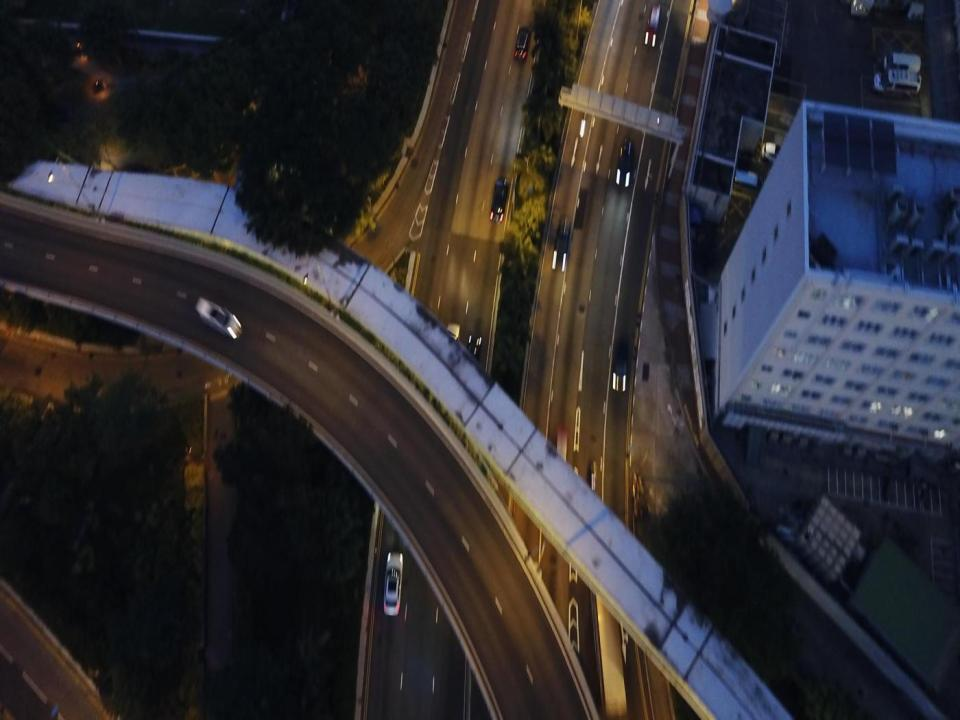car: (197, 300, 242, 340), (384, 550, 404, 617), (439, 322, 461, 376), (551, 219, 573, 272), (611, 336, 631, 390), (616, 134, 634, 188), (490, 177, 509, 222), (467, 333, 482, 381), (644, 4, 662, 44)
van: (874, 65, 921, 96), (884, 53, 924, 71), (514, 26, 528, 57)
